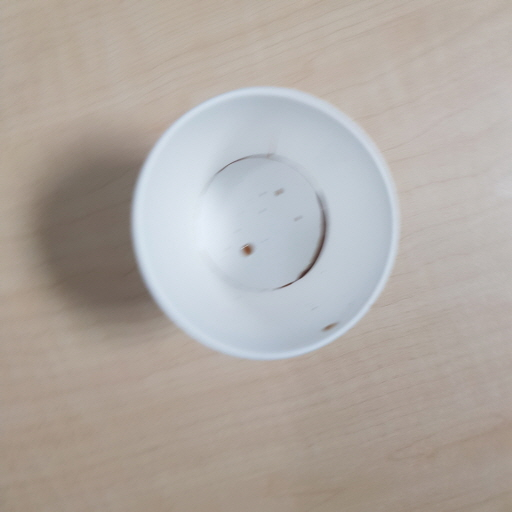Paper_1: (129, 89, 403, 358)
